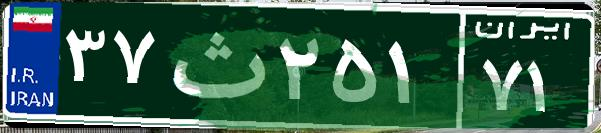1: (385, 28, 445, 110), (525, 38, 570, 115)
2: (273, 28, 330, 110)
3: (57, 26, 110, 107)
5: (330, 28, 385, 110)
7: (475, 38, 525, 113), (110, 28, 158, 105)
ث: (158, 15, 273, 115)
